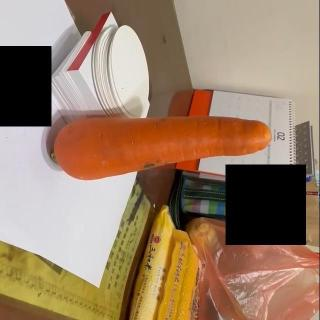carrot: (51, 115, 271, 182)
